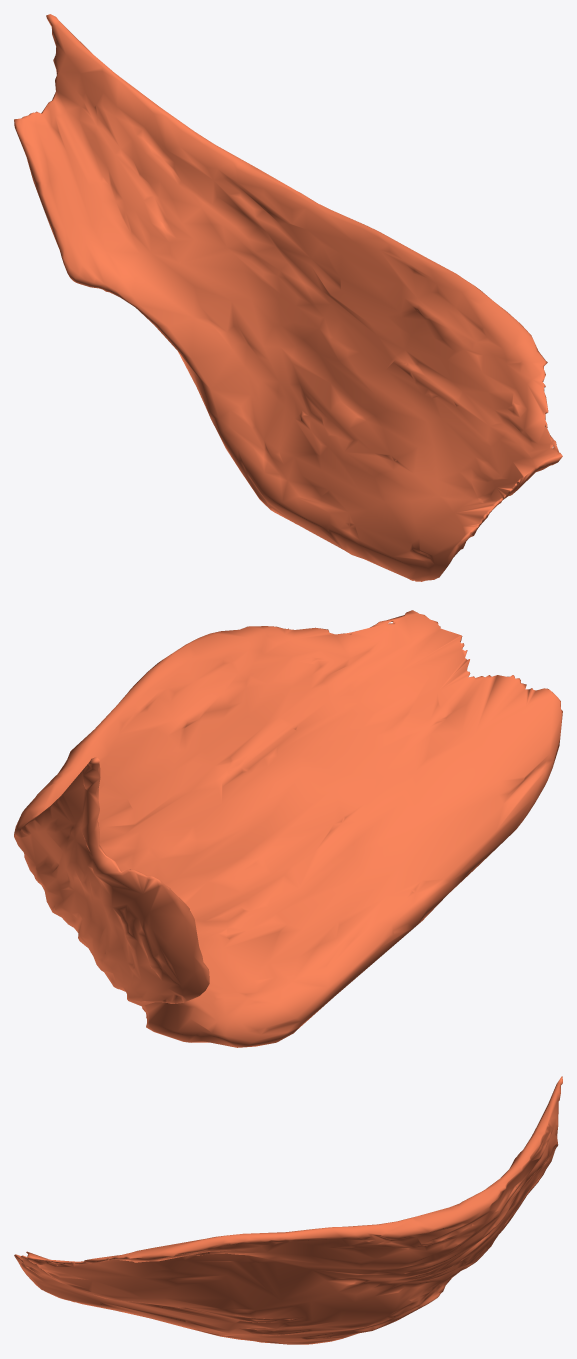
The model's file is Pubococcygeus_left.glb.
3 renders of one model, top to bottom at view 1: azimuth 30°, elevation 25°; view 2: azimuth 150°, elevation 25°; view 3: azimuth 270°, elevation 25°, orthographic. The views are drawn at different scales.
Parts seen in each view (by area): view 1: Pubococcygeus_muscle.l_Generated_Mesh_From_X3D.280; view 2: Pubococcygeus_muscle.l_Generated_Mesh_From_X3D.280; view 3: Pubococcygeus_muscle.l_Generated_Mesh_From_X3D.280.
Boxes of the visible parts, x1,y1,x2,y2 form: Pubococcygeus_muscle.l_Generated_Mesh_From_X3D.280: (14, 14, 562, 581); Pubococcygeus_muscle.l_Generated_Mesh_From_X3D.280: (14, 610, 562, 1047); Pubococcygeus_muscle.l_Generated_Mesh_From_X3D.280: (14, 1076, 562, 1344).
Bounding box in the file's own units: 0.0333 × 0.0483 × 0.0936.
